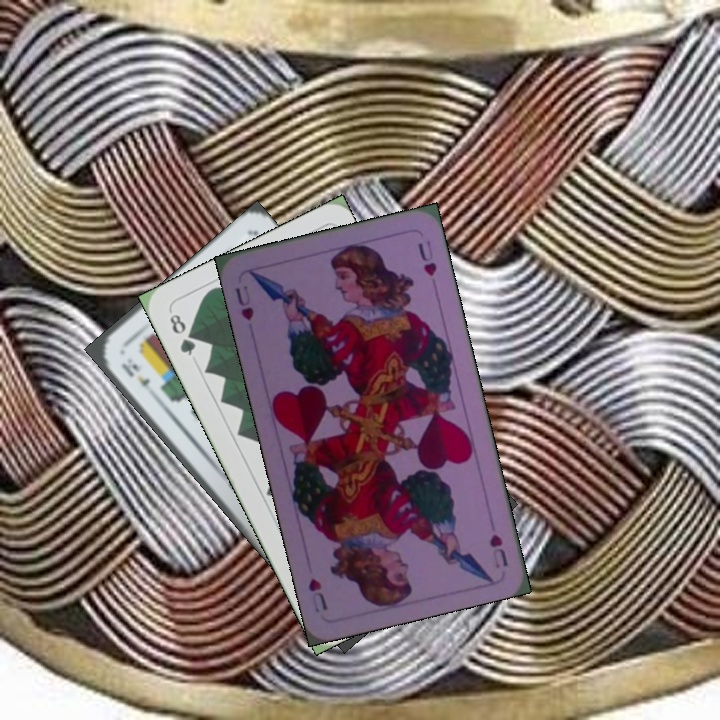EK: (117, 358, 159, 400)
G8: (165, 309, 199, 359)
HU: (231, 281, 257, 323), (485, 530, 511, 571)
